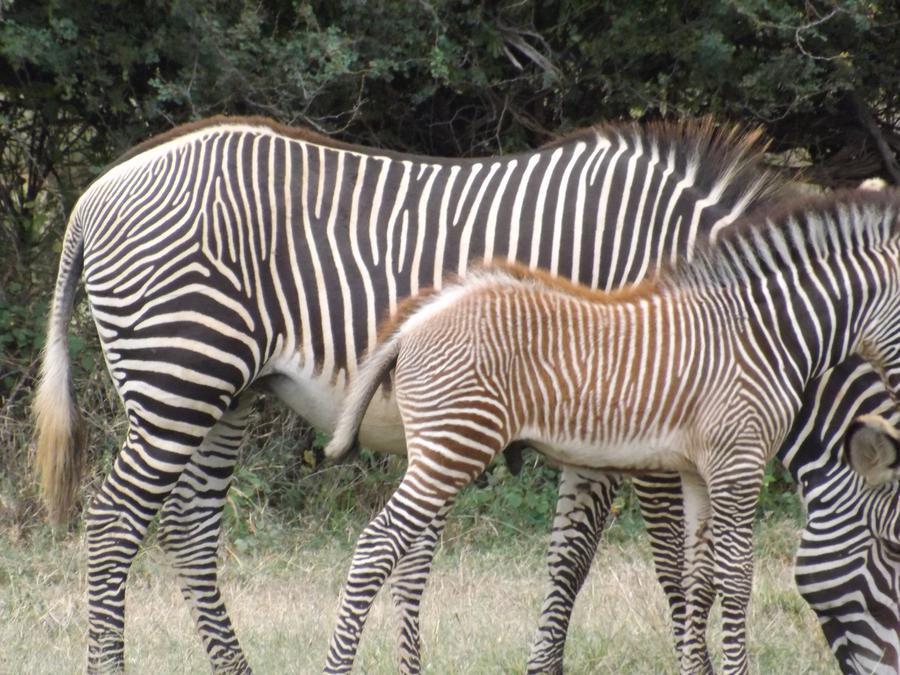zebra_grevys: (409, 261, 769, 476)
